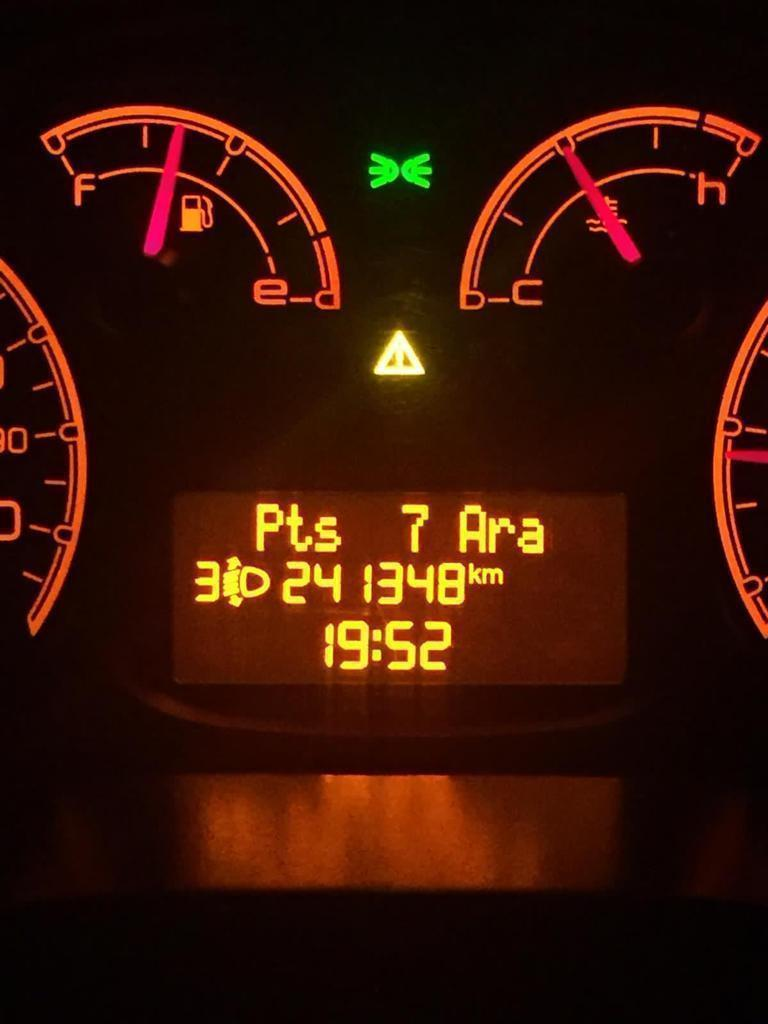1: (316, 619, 337, 670), (355, 562, 372, 605)
2: (418, 615, 453, 674), (277, 558, 311, 606)
3: (375, 559, 405, 607), (192, 558, 221, 605)
4: (313, 561, 345, 603), (405, 562, 436, 604)
5: (383, 617, 415, 673)
7: (396, 499, 433, 556)
8: (436, 560, 467, 608)
9: (336, 617, 369, 673)
X: (455, 500, 488, 555), (251, 500, 284, 553), (285, 500, 311, 553), (515, 515, 548, 556), (314, 514, 344, 554), (488, 515, 514, 553), (481, 565, 505, 586), (370, 627, 383, 663), (468, 559, 481, 586)
odometer: (157, 479, 640, 696)
